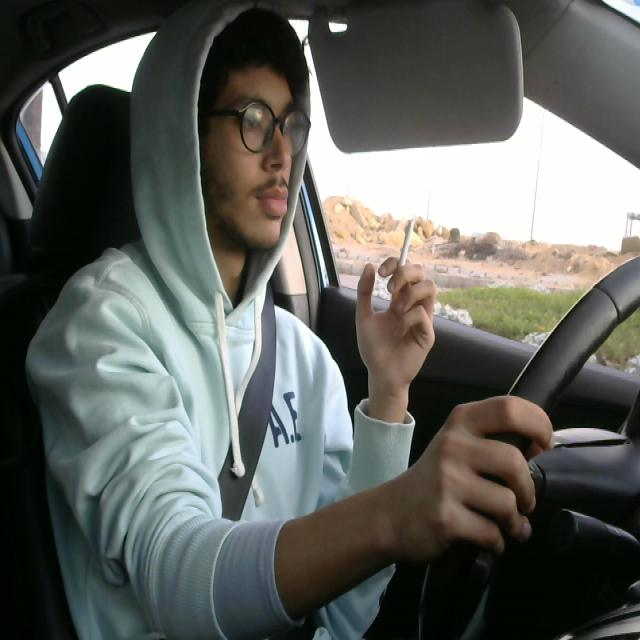smoking: (386, 219, 419, 303)
